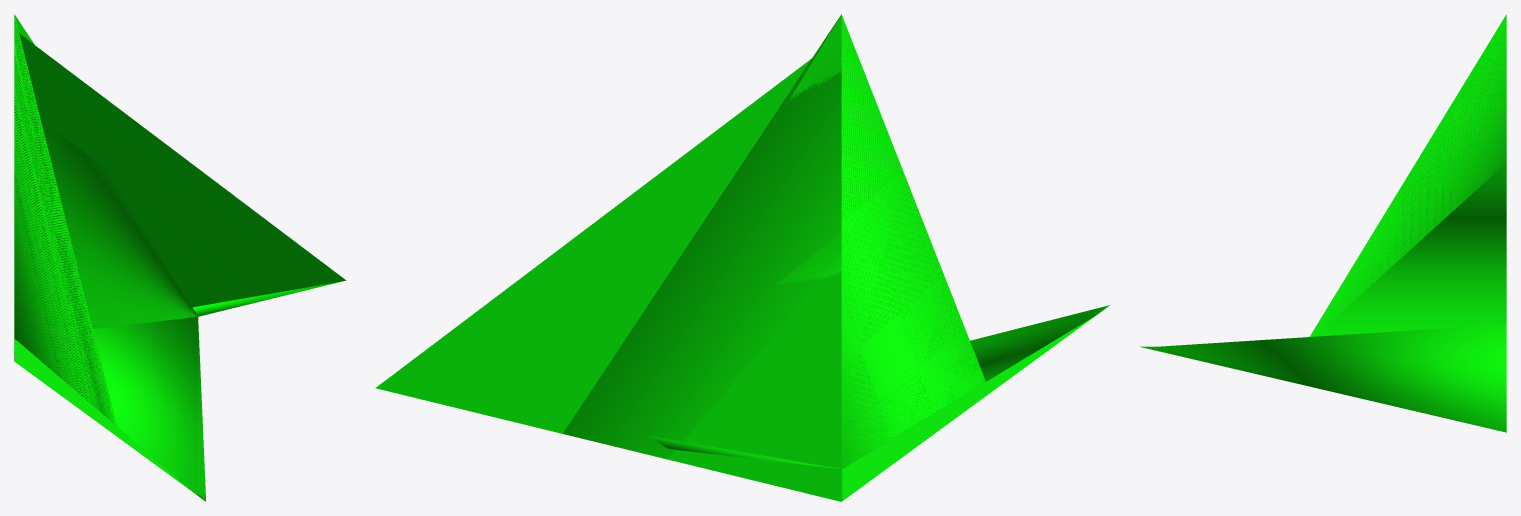
Rendered from bannerGreen.fbx.
The picture shows the model from 3 angles, left to right: view 1: azimuth 30°, elevation 25°; view 2: azimuth 150°, elevation 25°; view 3: azimuth 270°, elevation 25°; orthographic projection. The views are drawn at different scales.
Visible parts, largest first — view 1: bannerGreen; view 2: bannerGreen; view 3: bannerGreen.
Part boxes in pixels (x1,y1,x2,y2): bannerGreen: [14, 14, 345, 501]; bannerGreen: [375, 14, 1109, 501]; bannerGreen: [1140, 14, 1506, 433].
Size of the model in its own units: 903895 by 903895 by 903895.
